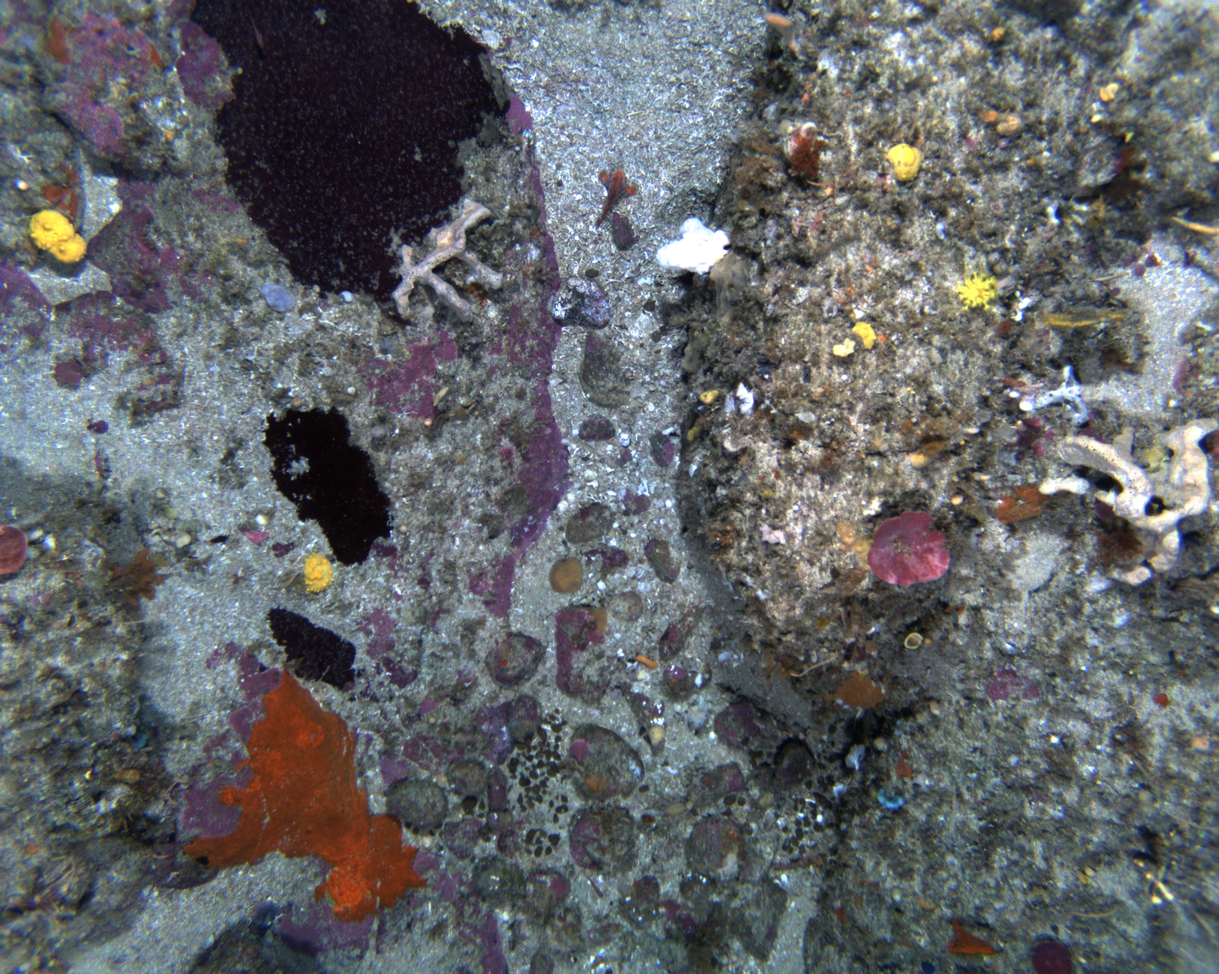Brachionichthyidae: (594, 167, 638, 233)
